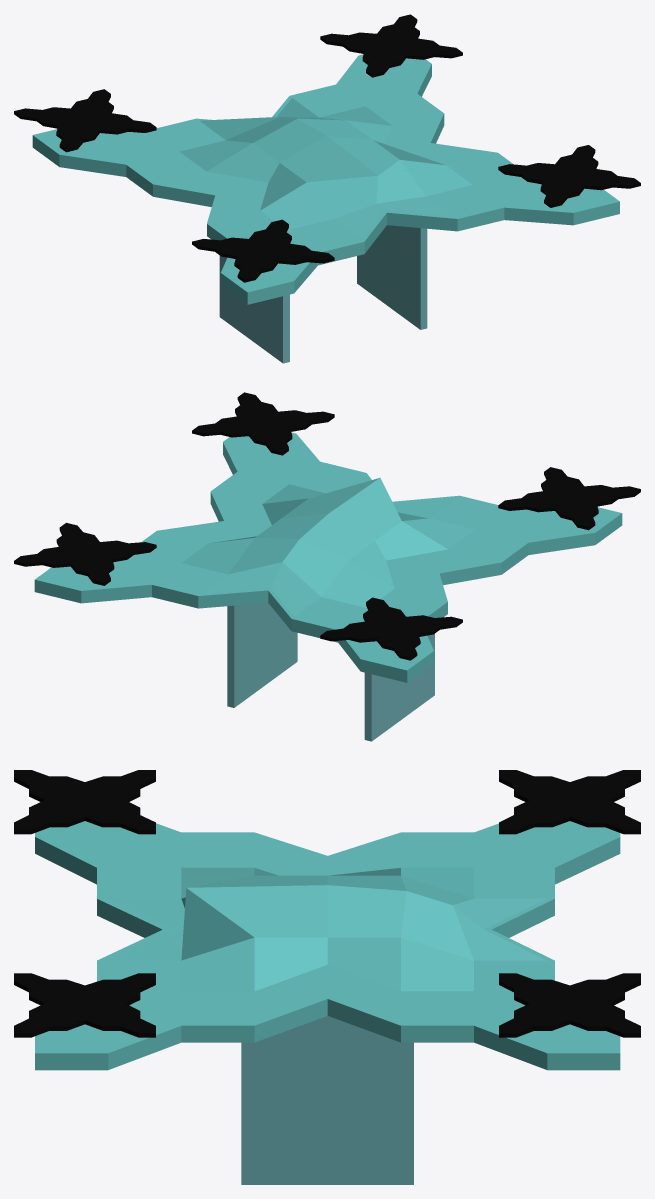
Rendered from Drone3.fbx.
3 renders of one model, top to bottom at view 1: azimuth 30°, elevation 25°; view 2: azimuth 150°, elevation 25°; view 3: azimuth 270°, elevation 25°, orthographic. The views are drawn at different scales.
Visible parts, largest first — view 1: Drone, PackageRight, Rotor.002, Rotor.003, Rotor.001, Rotor, PackageLeft; view 2: Drone, PackageRight, Rotor.002, Rotor.003, Rotor, Rotor.001, PackageLeft; view 3: Drone, PackageRight, Rotor.001, Rotor, Rotor.002, Rotor.003.
Boxes of the visible parts, bbox=[...] form: Drone: bbox=[32, 54, 619, 304]; PackageRight: bbox=[357, 225, 427, 329]; Rotor.002: bbox=[320, 14, 462, 77]; Rotor.003: bbox=[14, 89, 156, 152]; Rotor.001: bbox=[498, 145, 640, 207]; Rotor: bbox=[192, 219, 334, 282]; PackageLeft: bbox=[219, 255, 289, 363]; Drone: bbox=[34, 432, 622, 682]; PackageRight: bbox=[227, 603, 297, 707]; Rotor.002: bbox=[14, 522, 156, 585]; Rotor.003: bbox=[320, 597, 462, 660]; Rotor: bbox=[498, 467, 640, 530]; Rotor.001: bbox=[192, 392, 334, 455]; PackageLeft: bbox=[364, 634, 434, 741]; Drone: bbox=[35, 821, 620, 1070]; PackageRight: bbox=[241, 1016, 413, 1184]; Rotor.001: bbox=[14, 973, 155, 1037]; Rotor: bbox=[14, 770, 155, 834]; Rotor.002: bbox=[499, 973, 640, 1037]; Rotor.003: bbox=[499, 770, 640, 834].
Bounding box in the file's own units: 722 × 726 × 324.
